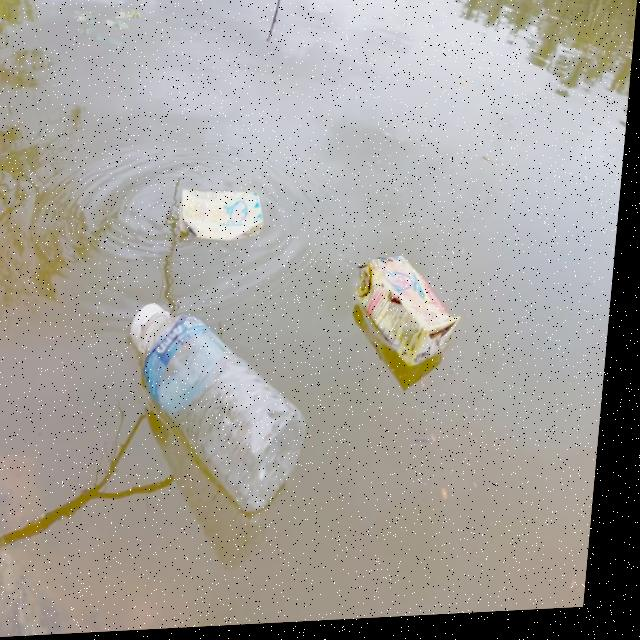paper: (343, 243, 489, 375), (151, 173, 279, 251)
waterbottle: (118, 286, 324, 494)
